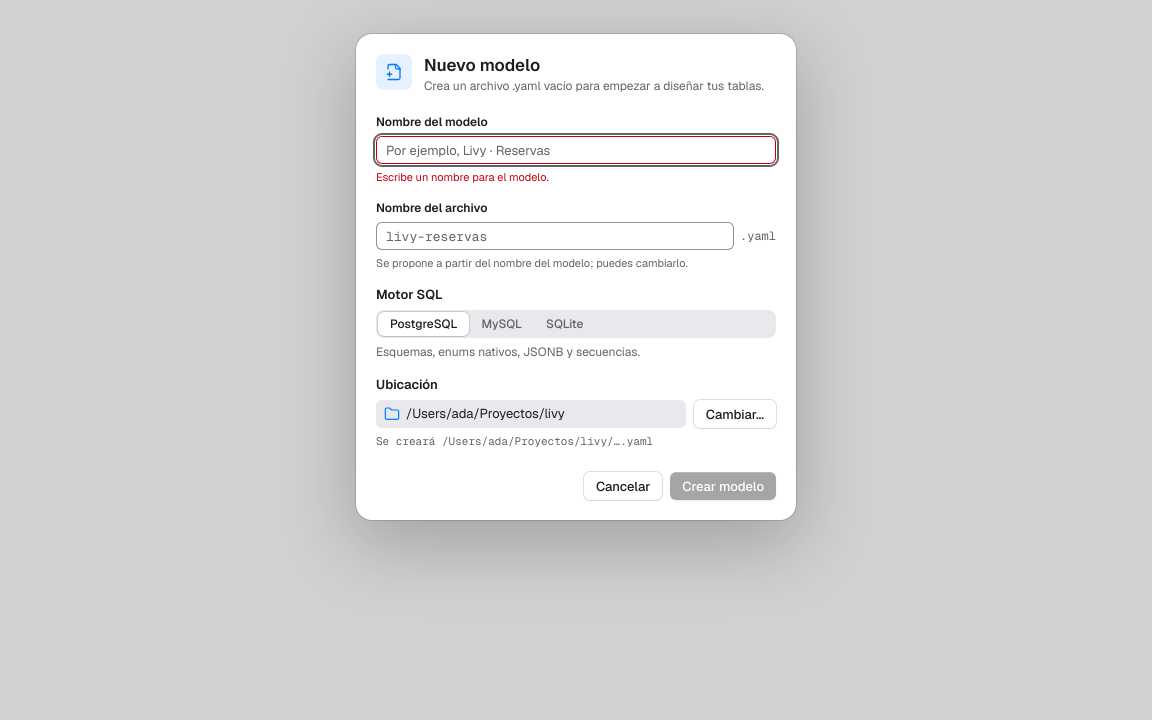
Test: Nuevo modelo (FR-002 a FR-006) › con un nombre válido y la carpeta elegida deja crear
Type "Livy · Reservas" into the field labelled "Nombre del modelo" at (576, 150), box [384, 136, 768, 164]
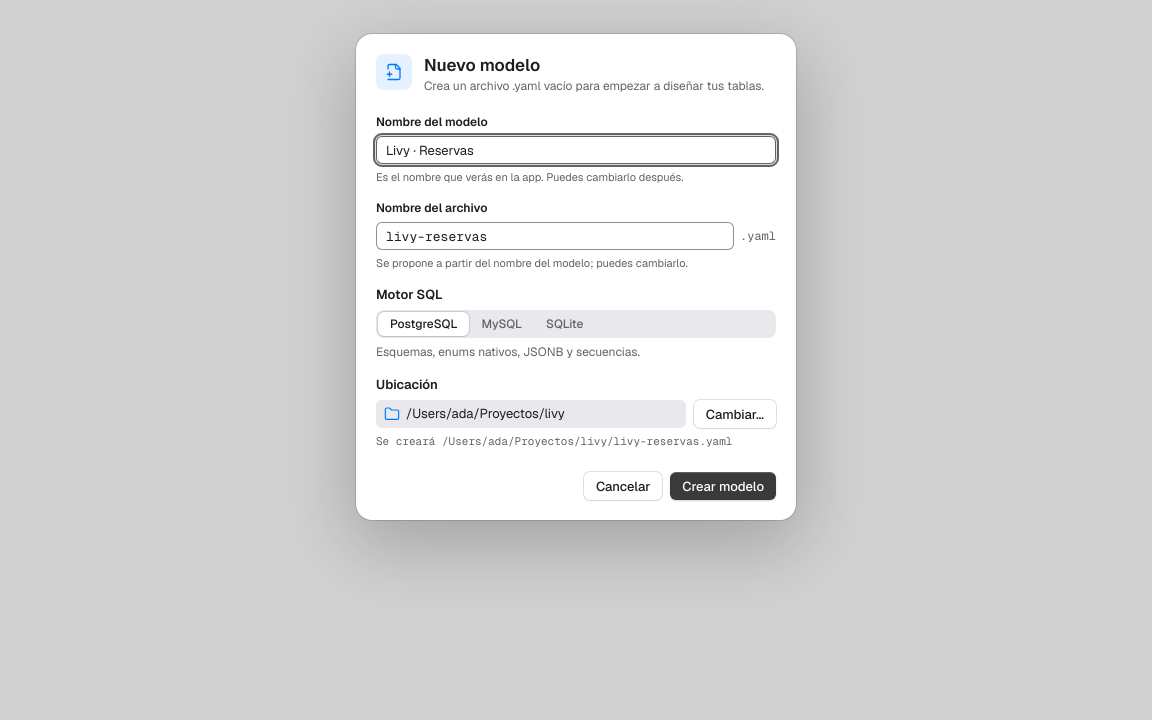
Expected: the button "Crear modelo" is enabled, [670, 472, 776, 500]
